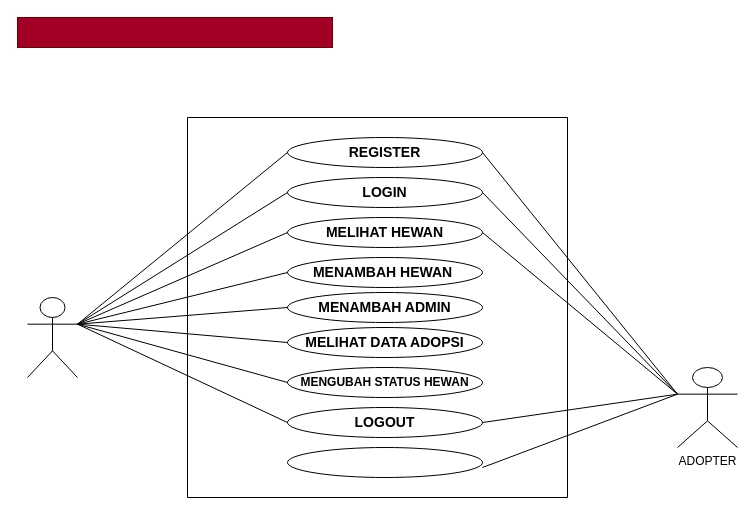
The diagram is 755 pixels wide and 515 high, and some of its shapes have lost their labels. Each missing label, with the centre of its shape:
"ADMIN" belongs at point 52,337.
"APLIKASI SISTEM MANAJEMEN ADOPSI HEWAN" belongs at point 174,32.
"RIWAYAT ADOPSI SAYA" belongs at point 384,462.
